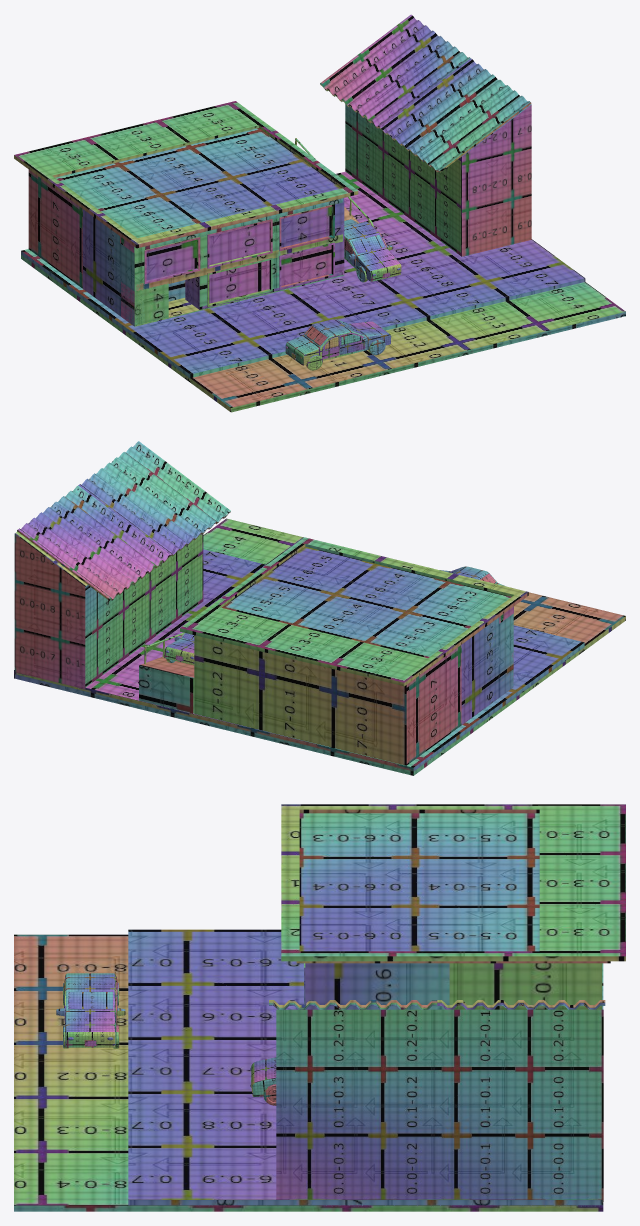
File: ZaraModelCombined.fbx
3 views of the same model, one above another, from view 1: azimuth 30°, elevation 25°; view 2: azimuth 150°, elevation 25°; view 3: azimuth 270°, elevation 25° (orthographic). The views are drawn at different scales.
Parts seen in each view (by area): view 1: Building, Sidewalk, Street, Roof, SideBuilding, CarStreet, CarRamp1; view 2: Building, SideBuilding, Roof, Sidewalk, Street, Ramp, CarRamp2; view 3: Building, SideBuilding, Sidewalk, Street, CarStreet, Roof, CarRamp1.
Part boxes in pixels (x1,y1,x2,y2): Building: [14, 101, 358, 326]; Sidewalk: [21, 171, 585, 378]; Street: [21, 254, 625, 412]; Roof: [320, 14, 531, 172]; SideBuilding: [345, 104, 531, 256]; CarStreet: [285, 319, 391, 370]; CarRamp1: [344, 219, 401, 282]; Building: [180, 537, 528, 765]; SideBuilding: [14, 531, 203, 689]; Roof: [17, 441, 230, 600]; Sidewalk: [14, 549, 584, 771]; Street: [14, 518, 625, 775]; Ramp: [139, 657, 194, 713]; CarRamp2: [164, 632, 194, 665]; Building: [281, 804, 625, 1009]; SideBuilding: [276, 1009, 603, 1201]; Sidewalk: [128, 929, 603, 1206]; Street: [14, 934, 603, 1211]; CarStreet: [56, 973, 125, 1048]; Roof: [269, 1000, 605, 1009]; CarRamp1: [250, 1057, 276, 1105].
Bounding box in the file's own units: 2237 × 804 × 2138.
1 material, 1 textured.
